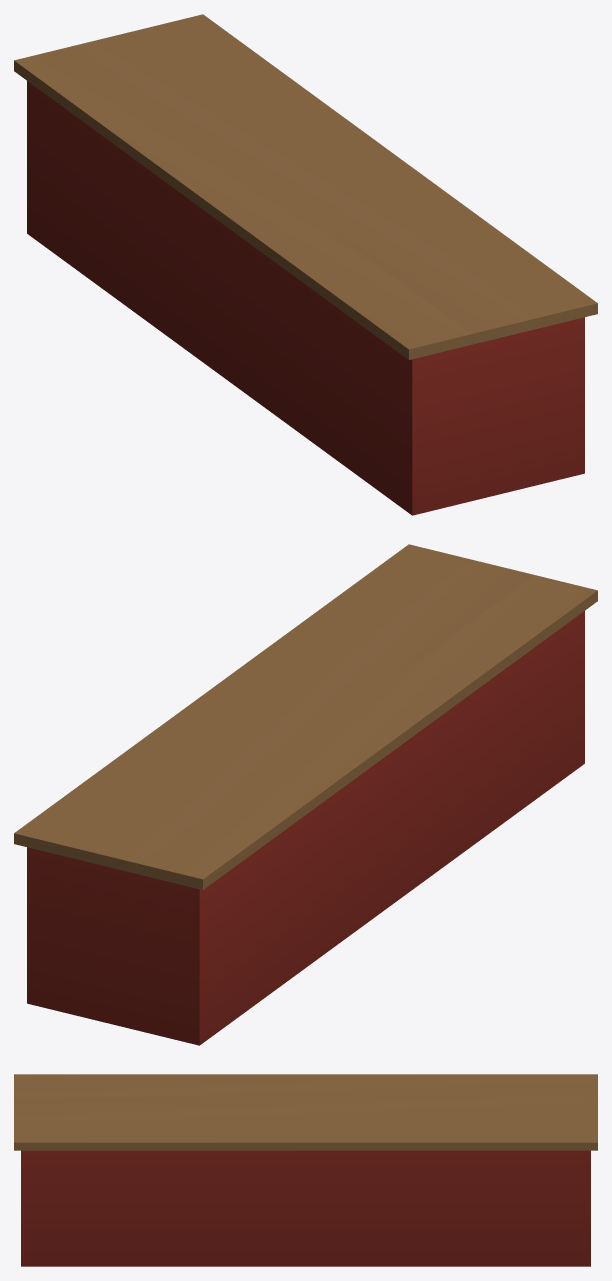
File: stall.counter.red_cloth.glb
The picture shows the model from 3 angles, top to bottom: view 1: azimuth 30°, elevation 25°; view 2: azimuth 150°, elevation 25°; view 3: azimuth 270°, elevation 25°; orthographic projection. The views are drawn at different scales.
Parts seen in each view (by area): view 1: stall_counter_red_cloth; view 2: stall_counter_red_cloth; view 3: stall_counter_red_cloth.
Boxes of the visible parts, x1=… form: stall_counter_red_cloth: x1=14, y1=14, x2=597, y2=515; stall_counter_red_cloth: x1=14, y1=544, x2=597, y2=1045; stall_counter_red_cloth: x1=14, y1=1074, x2=597, y2=1266.
Size of what is drawn, in the model's own units: 0.922 by 0.8 by 3.34.
